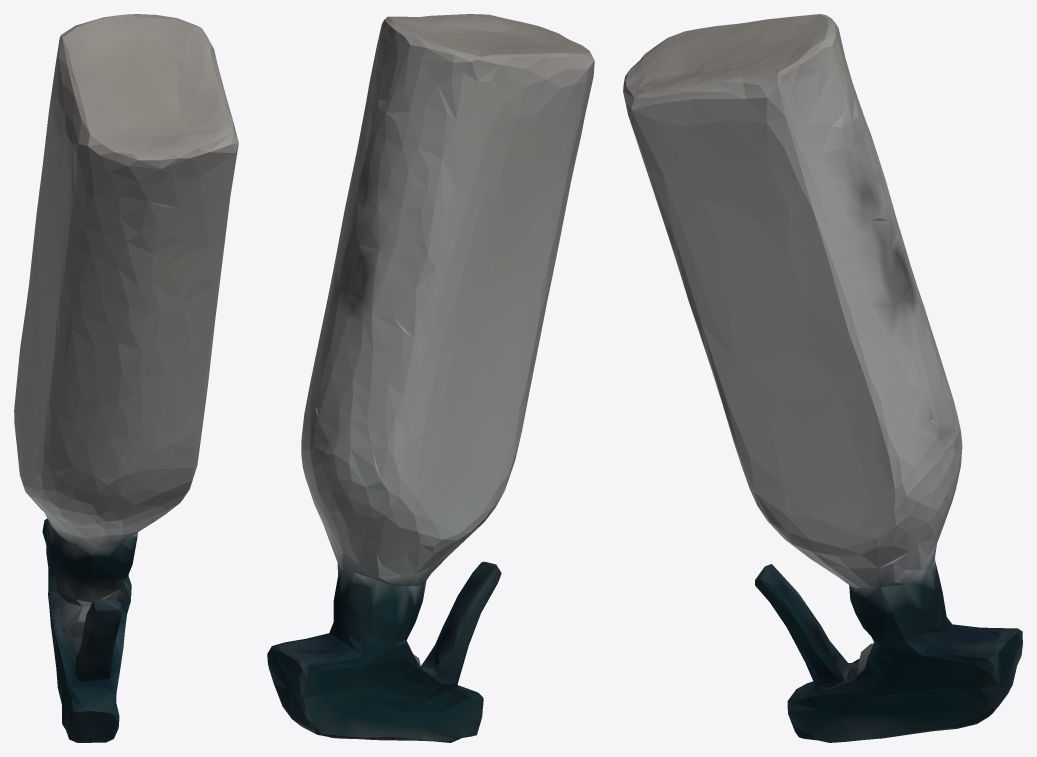
Rendered from trimesh_test.obj.
3 views of the same model, side by side, from view 1: azimuth 30°, elevation 25°; view 2: azimuth 150°, elevation 25°; view 3: azimuth 270°, elevation 25° (orthographic). The views are drawn at different scales.
Bounding box in the file's own units: 0.0745 × 0.2648 × 0.1345.
